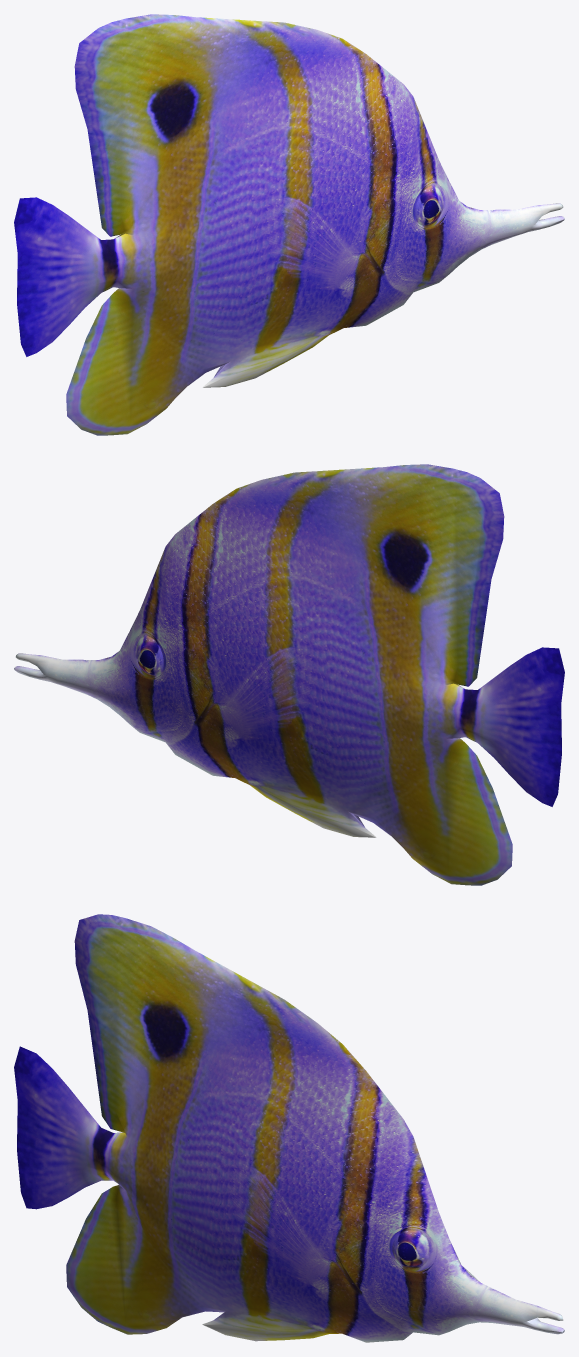
File: butterflyfish.glb
The picture shows the model from 3 angles, top to bottom: view 1: azimuth 30°, elevation 25°; view 2: azimuth 150°, elevation 25°; view 3: azimuth 330°, elevation 25°; orthographic projection.
Parts seen in each view (by area): view 1: Object_2; view 2: Object_2; view 3: Object_2.
Part boxes in pixels (x1,y1,x2,y2): Object_2: (14,14,564,435); Object_2: (14,464,564,885); Object_2: (14,914,564,1342).
Bounding box in the file's own units: 0.2651 × 0.1916 × 0.0316.
Materials: 1 (1 with a texture image).
